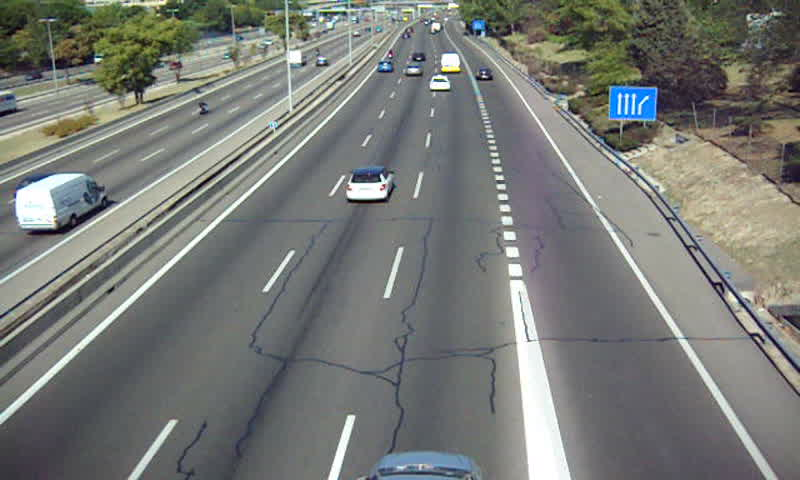car: (347, 168, 392, 201), (428, 76, 452, 92), (474, 69, 493, 82)
van: (440, 53, 460, 72)
